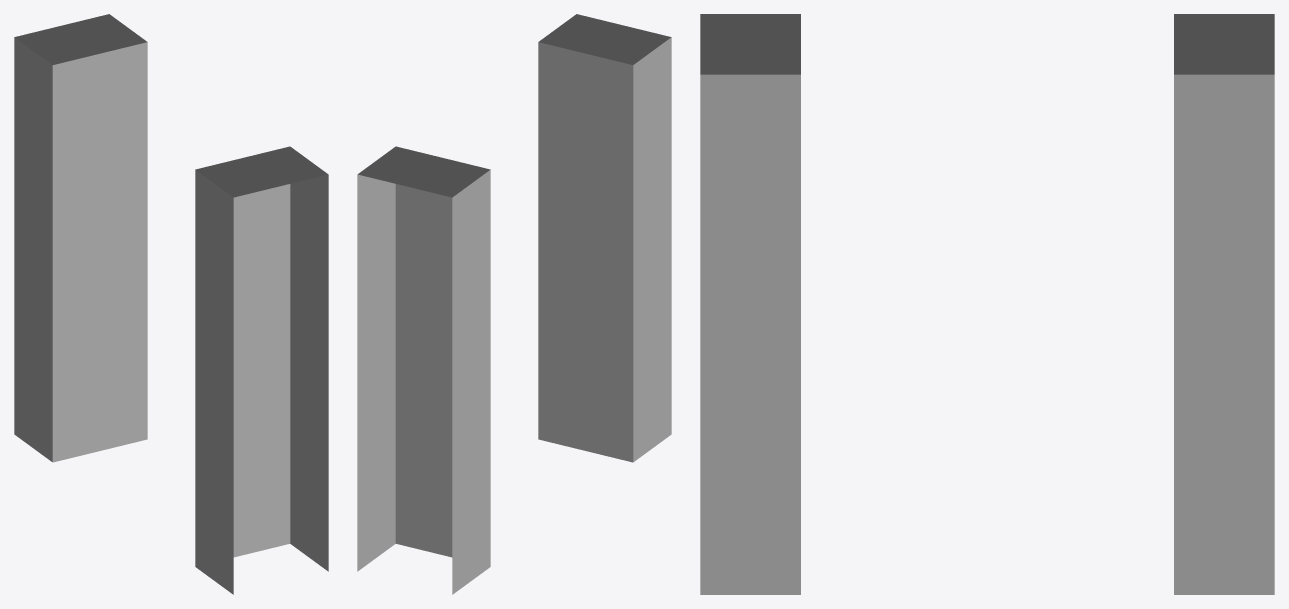
Rendered from Wall_White_Doorway.fbx.
The picture shows the model from 3 angles, left to right: view 1: azimuth 30°, elevation 25°; view 2: azimuth 150°, elevation 25°; view 3: azimuth 270°, elevation 25°; orthographic projection. The views are drawn at different scales.
Parts seen in each view (by area): view 1: Cube; view 2: Cube; view 3: Cube.
Boxes of the visible parts, bbox=[...] form: Cube: bbox=[14, 14, 328, 594]; Cube: bbox=[357, 14, 671, 594]; Cube: bbox=[700, 14, 1274, 594].
Bounding box in the file's own units: 100 × 400 × 400.
